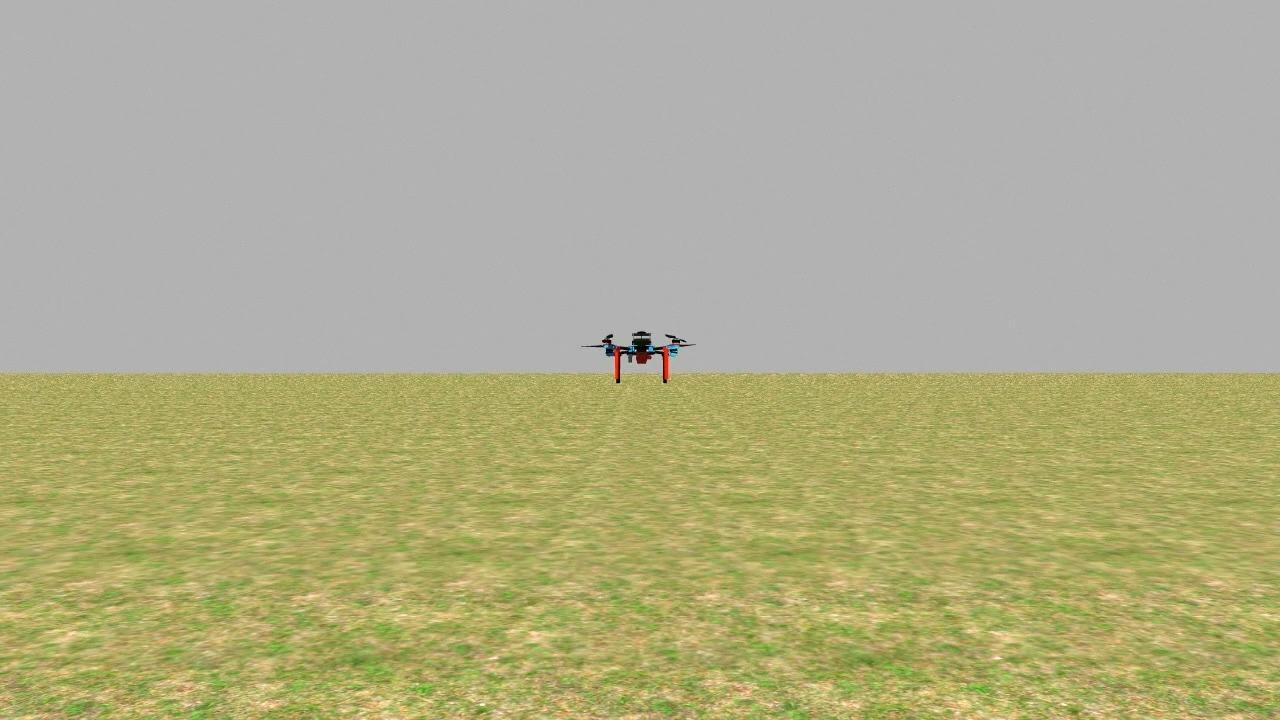UAV: (589, 320, 690, 387)
